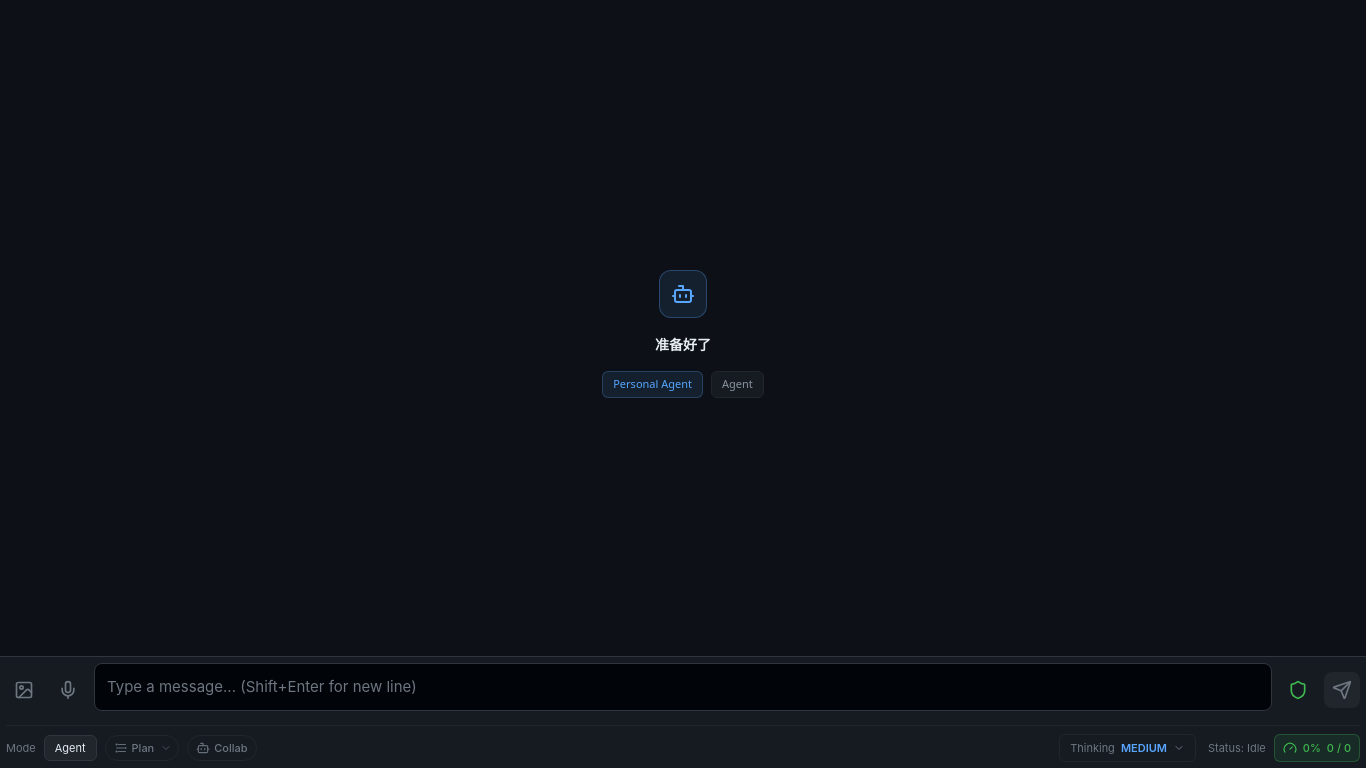
ChatPanel › does not expose project @mentions for Personal Agent
Type "@" into the text box with placeholder "Type a message... (Shift+Enter for new line)" at (683, 687), box [94,663,1272,711]
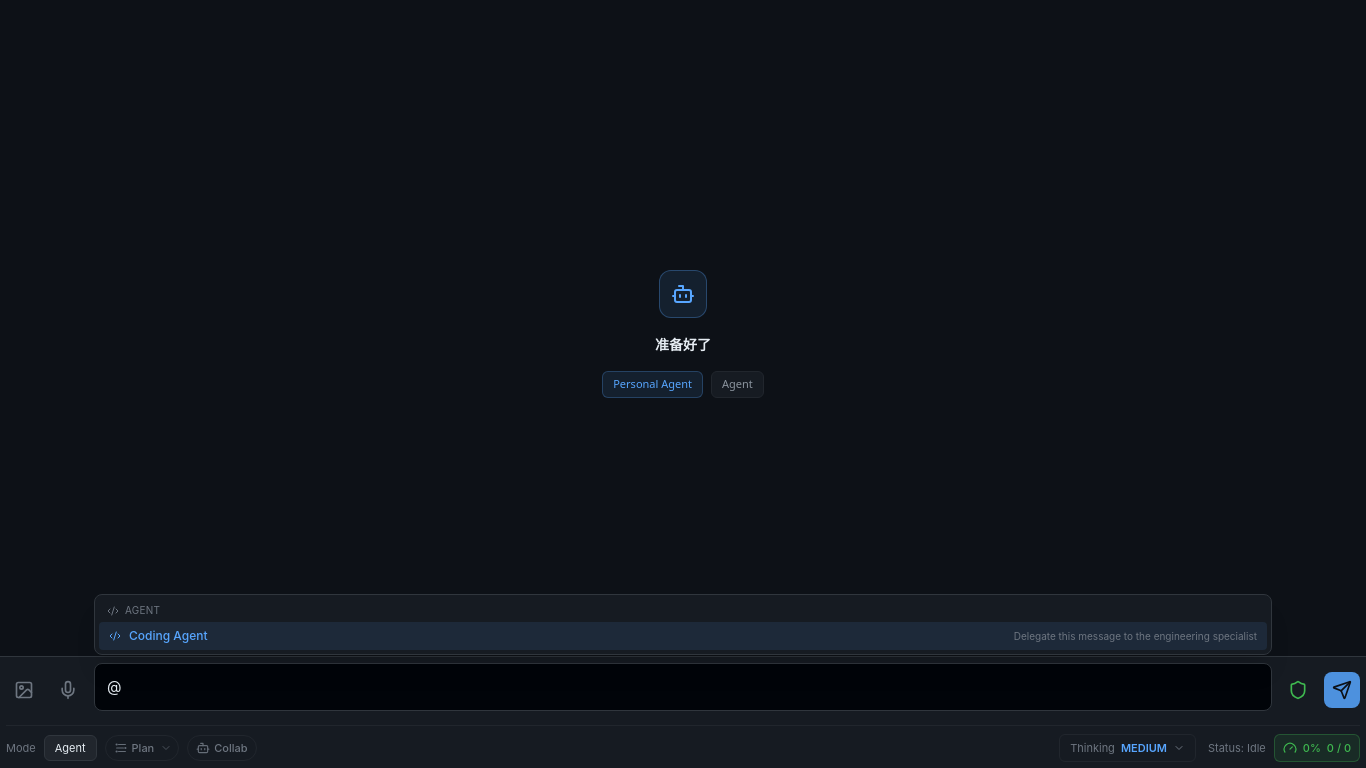
Now the text "Coding Agent" is shown, box [129,628,208,644]
